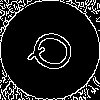Q: (25, 25, 86, 80)
